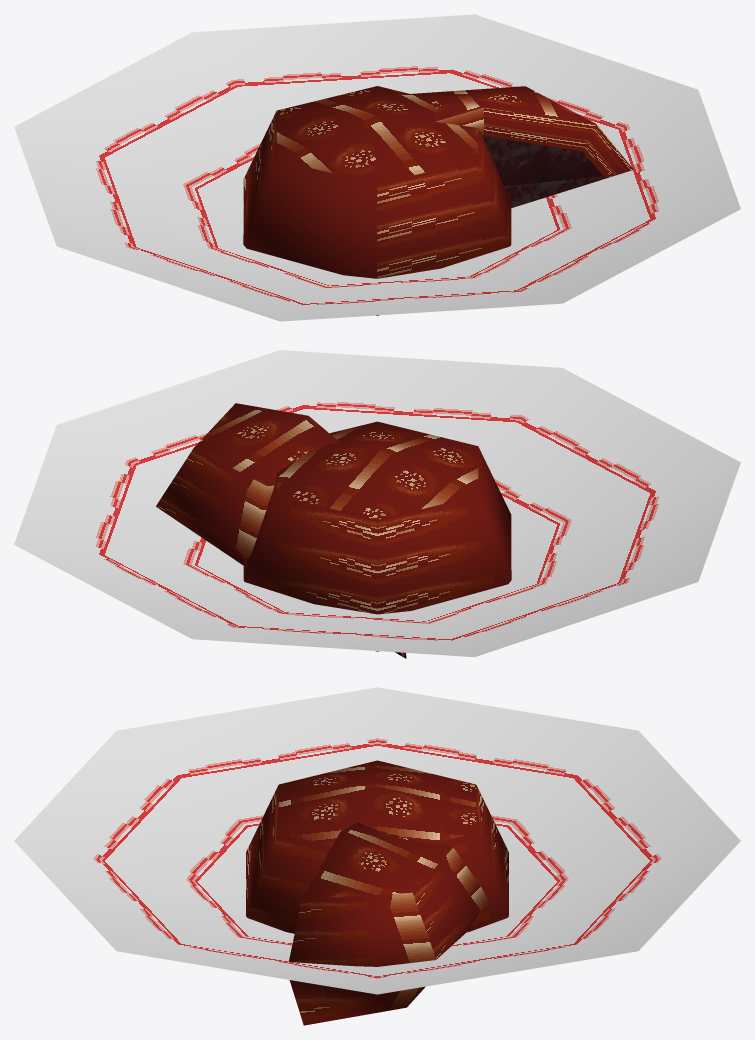
Rendered from 5549u_pan00_ss.gltf.
3 views of the same model, one above another, from view 1: azimuth 30°, elevation 25°; view 2: azimuth 150°, elevation 25°; view 3: azimuth 270°, elevation 25° (orthographic).
Visible parts, largest first — view 1: 5549u_pan00_ss; view 2: 5549u_pan00_ss; view 3: 5549u_pan00_ss.
Boxes of the visible parts, x1,y1,x2,y2 form: 5549u_pan00_ss: (14,14,740,321); 5549u_pan00_ss: (14,350,740,658); 5549u_pan00_ss: (14,687,740,1025).
Size of the model in its own units: 0.8887 by 0.26 by 0.8887.
Materials: 5 (5 with a texture image).
